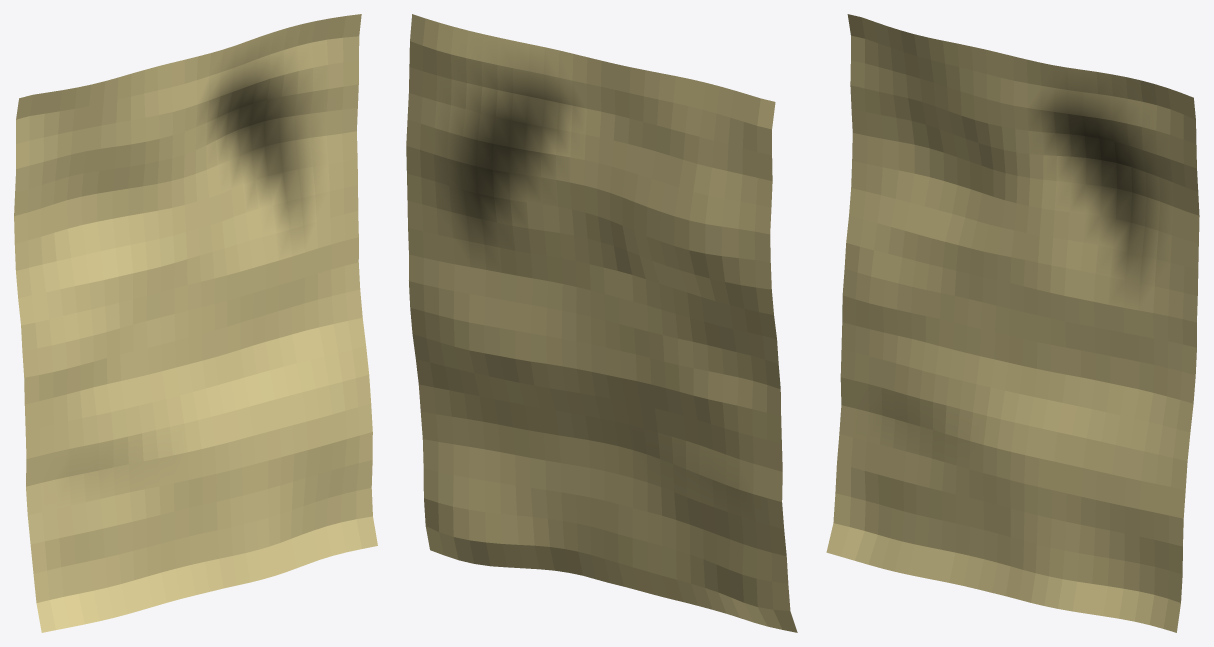
The model's file is paperNote.fbx.
3 views of the same model, side by side, from view 1: azimuth 30°, elevation 25°; view 2: azimuth 150°, elevation 25°; view 3: azimuth 330°, elevation 25° (orthographic). The views are drawn at different scales.
Parts seen in each view (by area): view 1: Plane; view 2: Plane; view 3: Plane.
Part boxes in pixels (x1,y1,x2,y2): Plane: [14, 14, 377, 632]; Plane: [406, 14, 797, 632]; Plane: [826, 14, 1199, 632].
Bounding box in the file's own units: 48.27 × 69.9 × 8.69.
